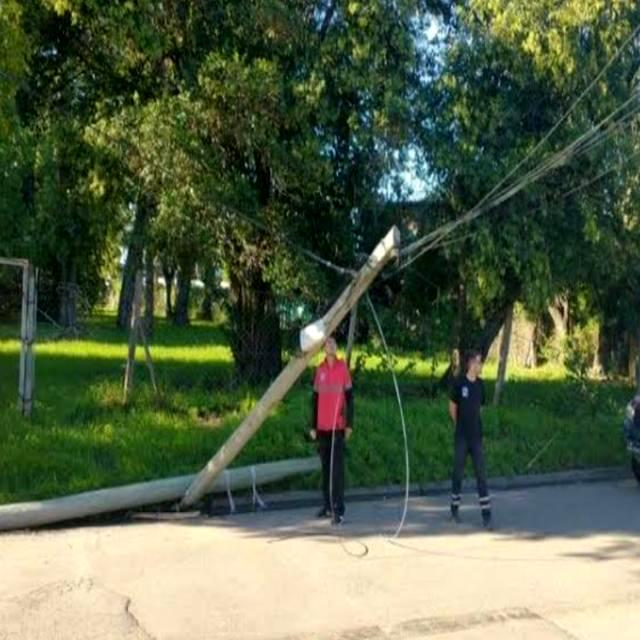Broken Pole: (1, 212, 409, 532)
